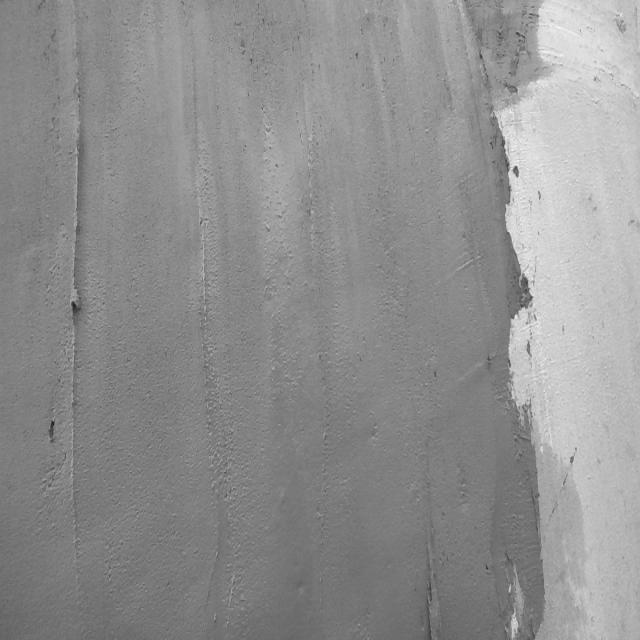trowels marks: (64, 45, 80, 576), (422, 542, 444, 640)
